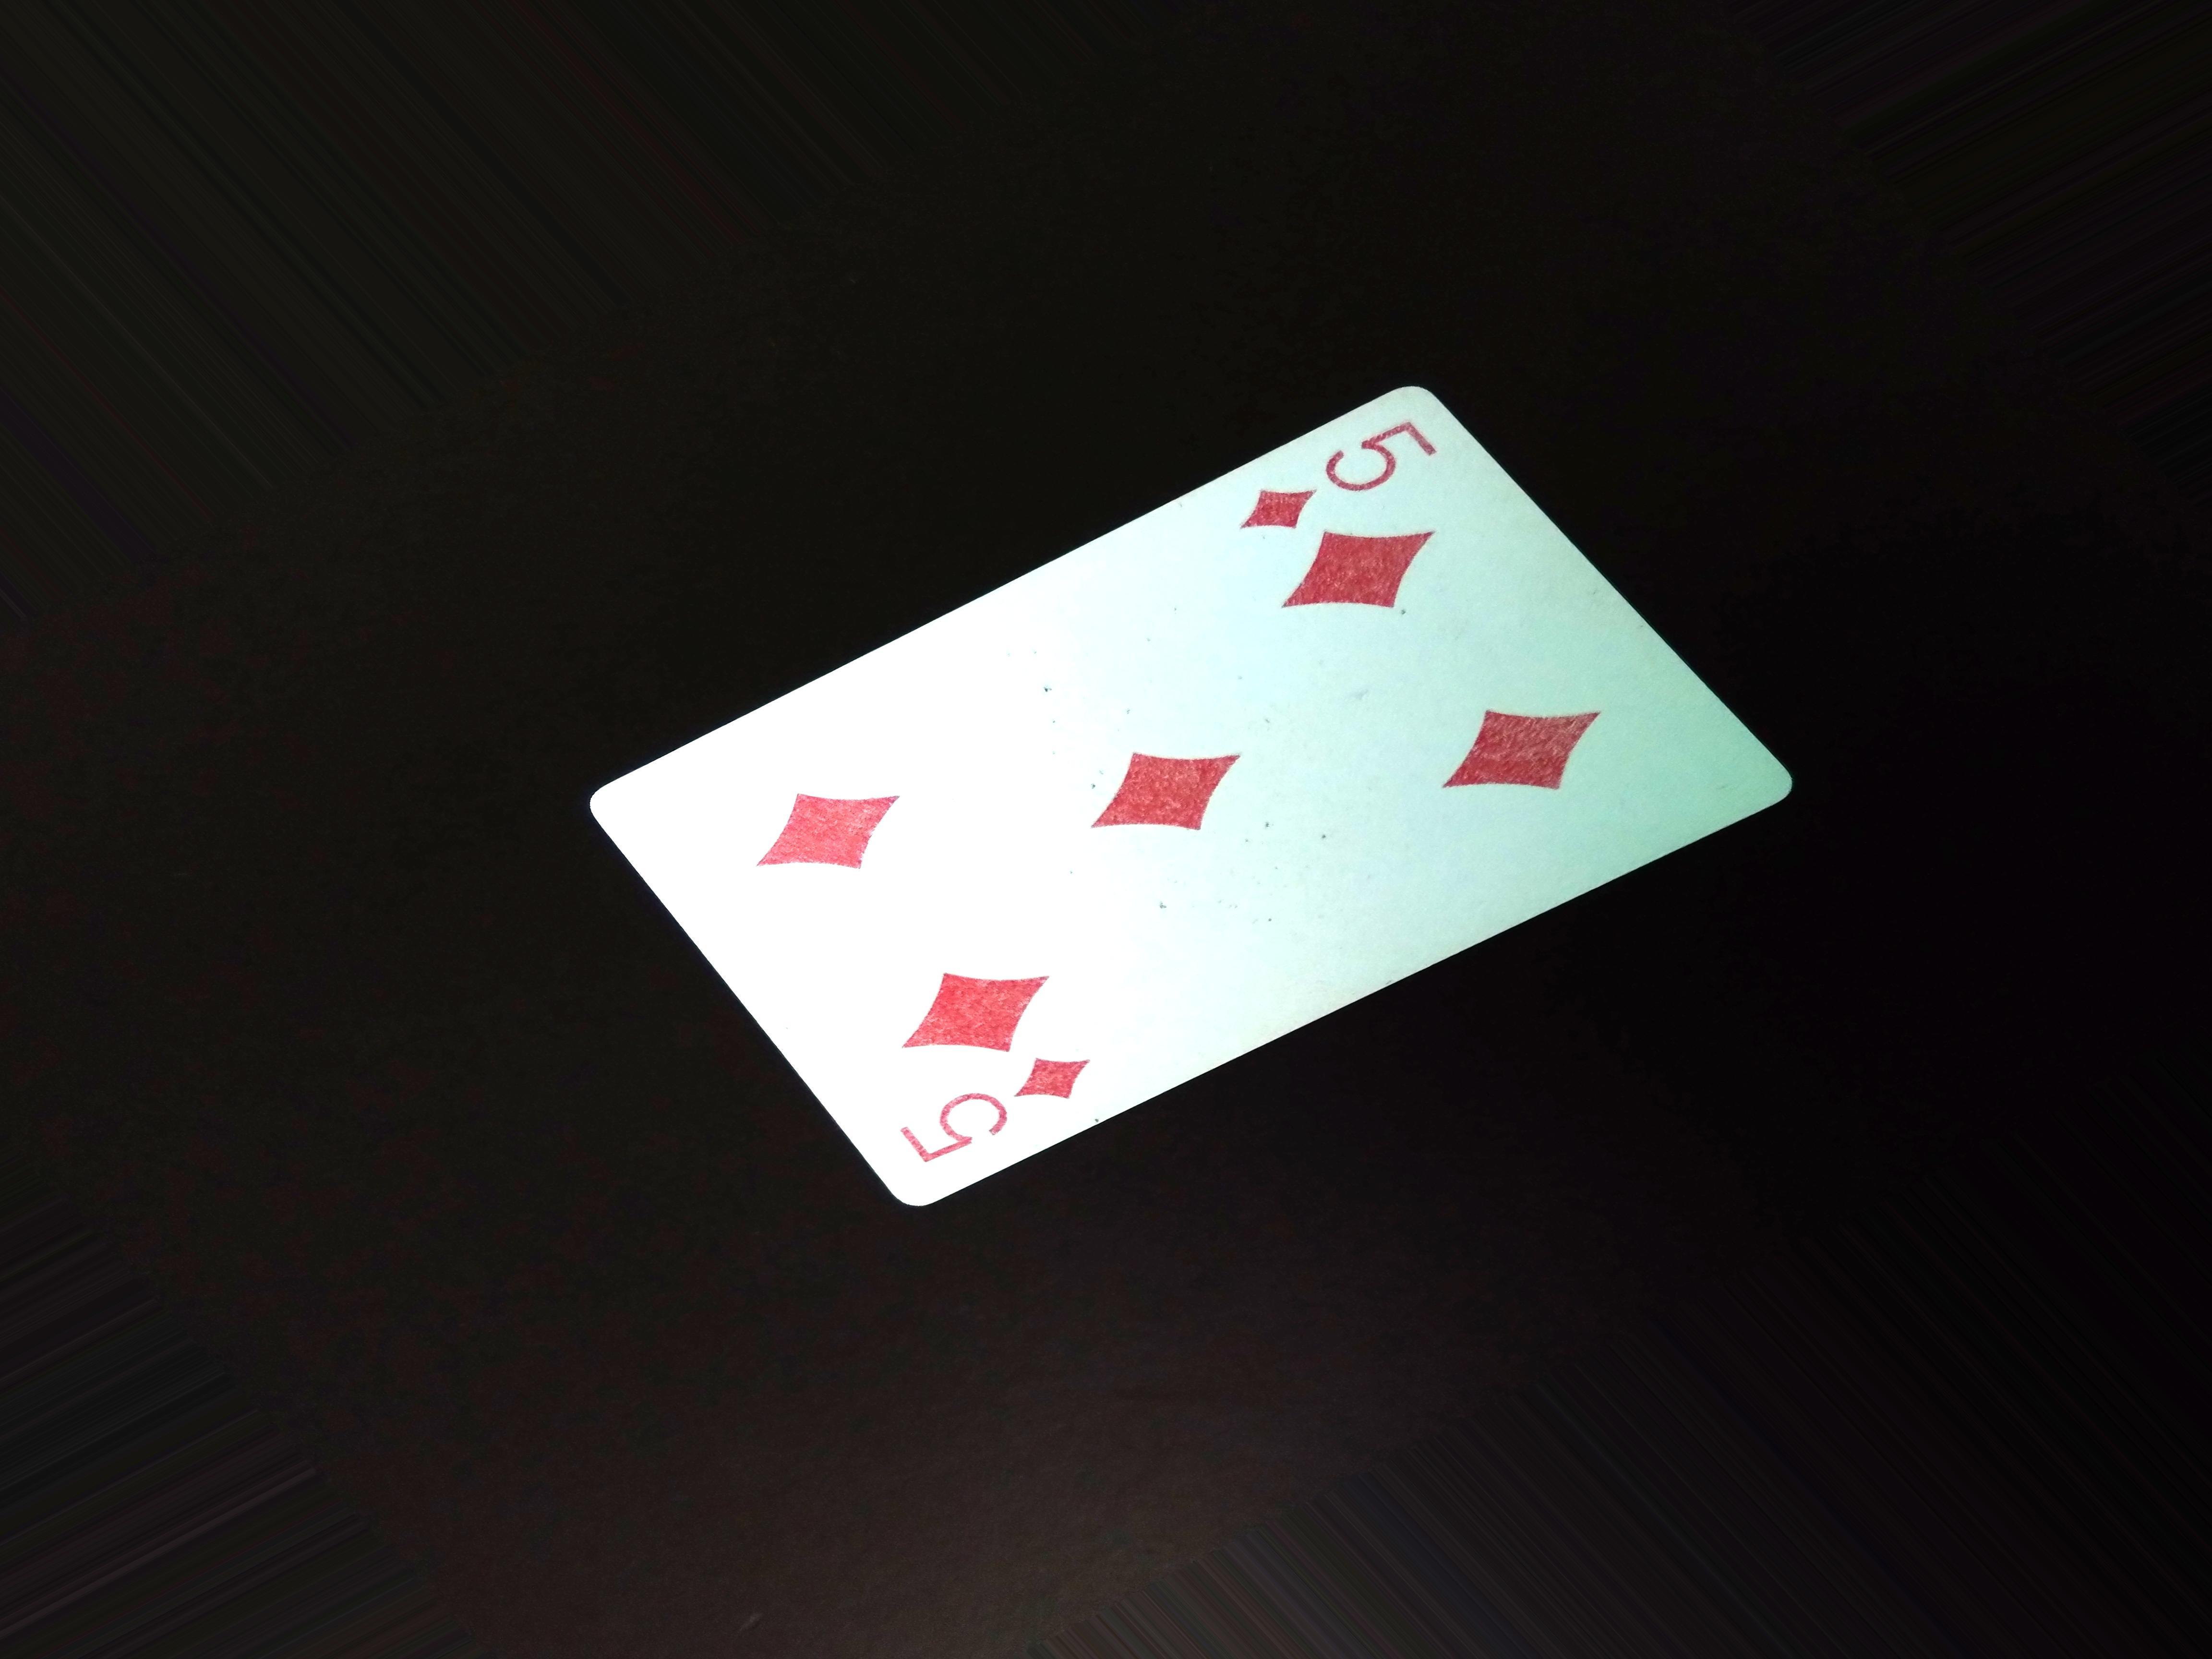5D: (1245, 420, 1437, 535)
